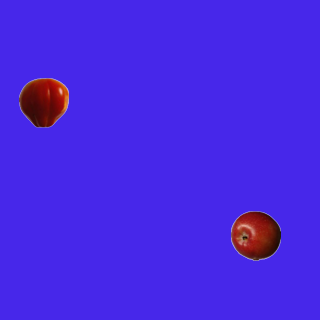Apple Braeburn: (230, 210, 280, 260)
Tomato 1: (18, 77, 68, 127)
